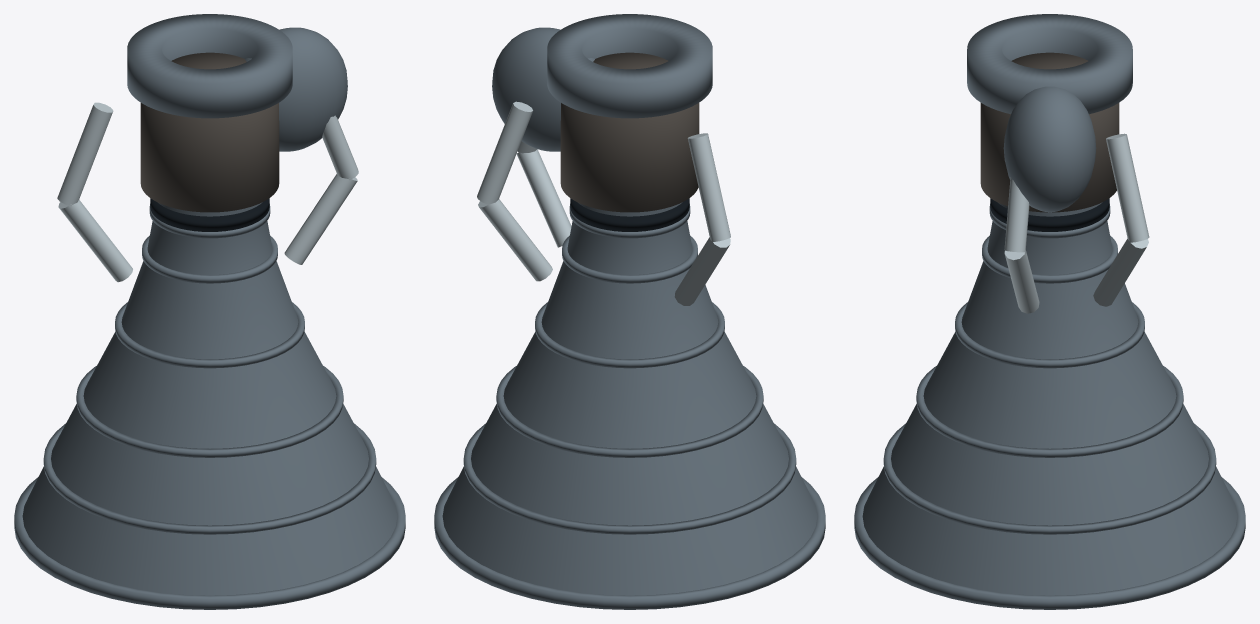
3 views of the same model, side by side, from view 1: azimuth 30°, elevation 25°; view 2: azimuth 150°, elevation 25°; view 3: azimuth 270°, elevation 25° (orthographic).
Parts seen in each view (by area): view 1: s_ii.j2_04.nozzle.mesh, s_ii.j2_04.mesh; view 2: s_ii.j2_04.nozzle.mesh, s_ii.j2_04.mesh; view 3: s_ii.j2_04.nozzle.mesh, s_ii.j2_04.mesh.
Part boxes in pixels (x1,y1,x2,y2): s_ii.j2_04.nozzle.mesh: (14,198,405,609); s_ii.j2_04.mesh: (57,14,358,282); s_ii.j2_04.nozzle.mesh: (434,198,825,609); s_ii.j2_04.mesh: (477,14,730,305); s_ii.j2_04.nozzle.mesh: (854,198,1245,609); s_ii.j2_04.mesh: (967,14,1149,313).
Size of the model in its own units: 2.06 by 2.78 by 2.06.
